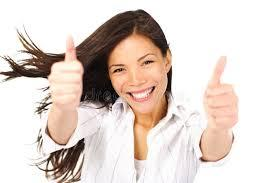cap: (94, 5, 179, 112)
